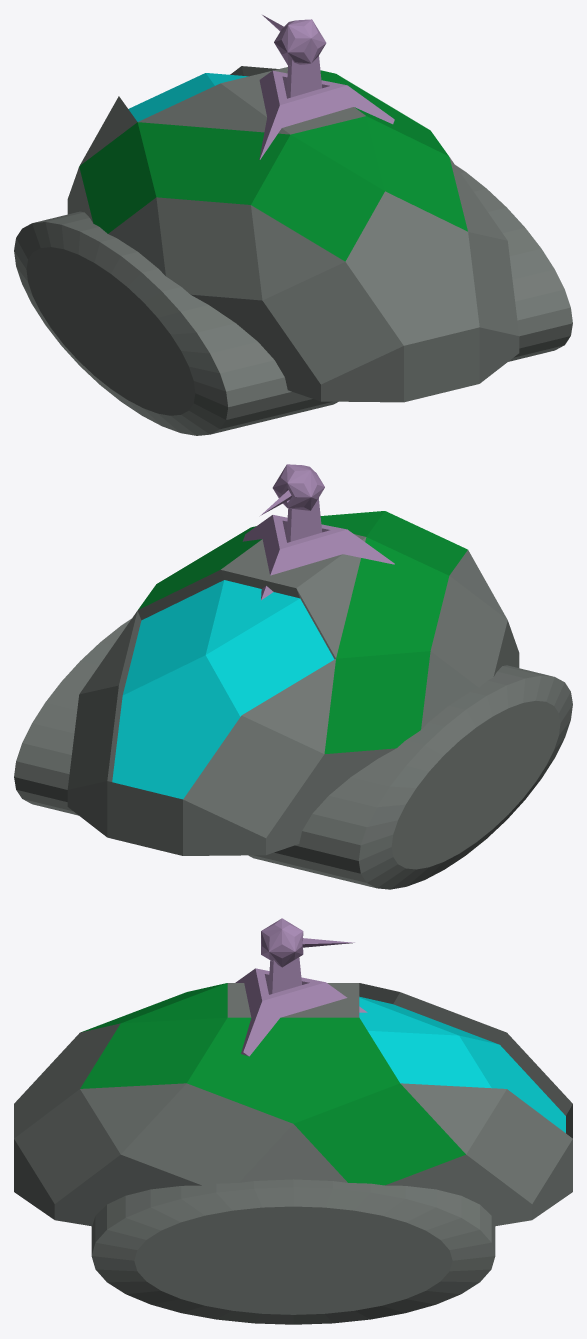
The model's file is basic enemy.fbx.
The picture shows the model from 3 angles, top to bottom: view 1: azimuth 30°, elevation 25°; view 2: azimuth 150°, elevation 25°; view 3: azimuth 270°, elevation 25°; orthographic projection. The views are drawn at different scales.
Parts seen in each view (by area): view 1: Cylinder_001, Cylinder, Solid_007; view 2: Cylinder_001, Solid_007, Cylinder; view 3: Cylinder_001, Cylinder, Solid_007.
Part boxes in pixels (x1=…): Cylinder_001: x1=14, y1=66, x2=519, y2=435; Cylinder: x1=455, y1=165, x2=572, y2=361; Solid_007: x1=259, y1=15, x2=394, y2=159; Cylinder_001: x1=67, y1=511, x2=572, y2=889; Solid_007: x1=242, y1=464, x2=394, y2=600; Cylinder: x1=14, y1=618, x2=131, y2=815; Cylinder_001: x1=14, y1=983, x2=572, y2=1226; Cylinder: x1=91, y1=1179, x2=495, y2=1324; Solid_007: x1=235, y1=918, x2=367, y2=1056.
Size of the model in its own units: 1.85 by 1.66 by 2.61.
